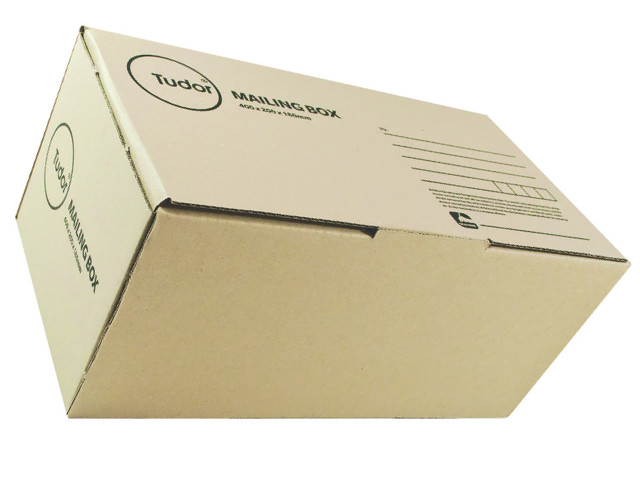cardboard: (18, 28, 628, 414)
